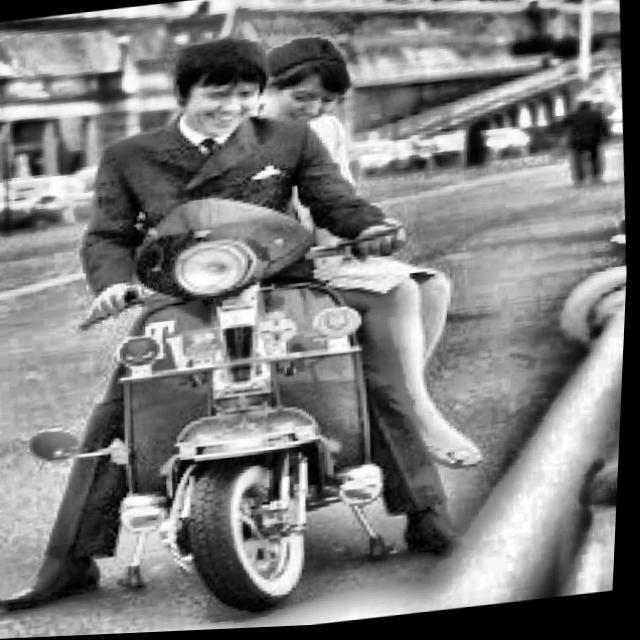motorcycle: (14, 165, 478, 638)
